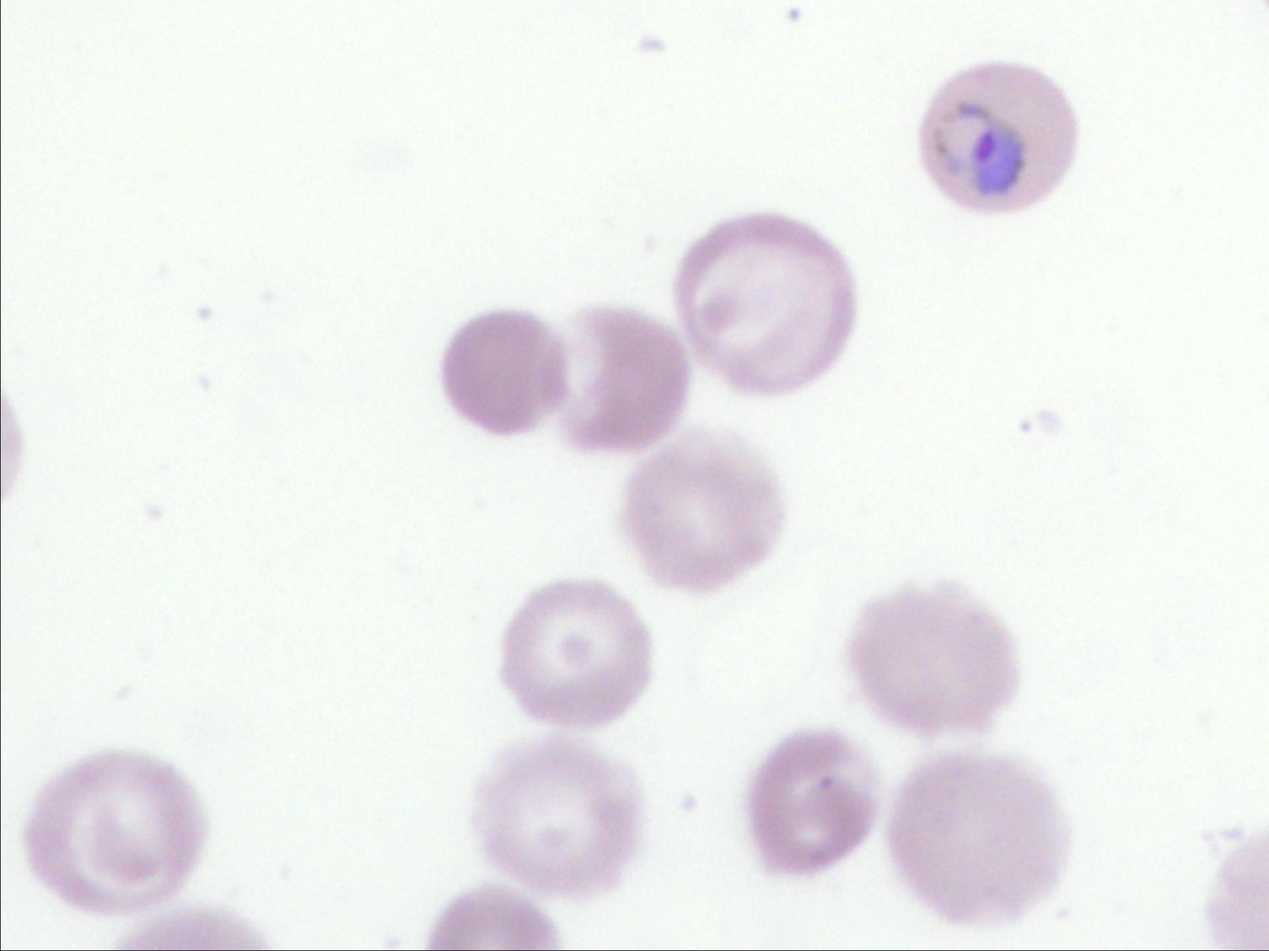Infected: (920, 61, 1079, 211)
Uninfected: (676, 210, 855, 388), (887, 752, 1065, 925), (25, 750, 203, 909), (615, 430, 786, 589), (848, 577, 1020, 733), (476, 737, 634, 894), (497, 579, 651, 724), (544, 301, 685, 457), (749, 724, 876, 873), (440, 308, 568, 437)
